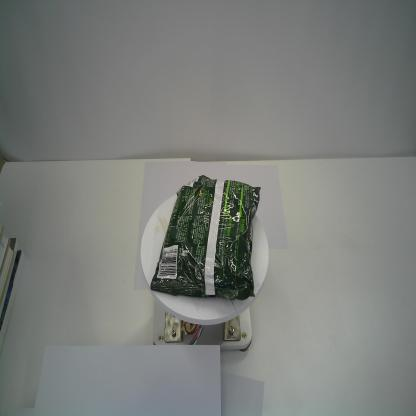Instant Noodles: (148, 172, 263, 300)
